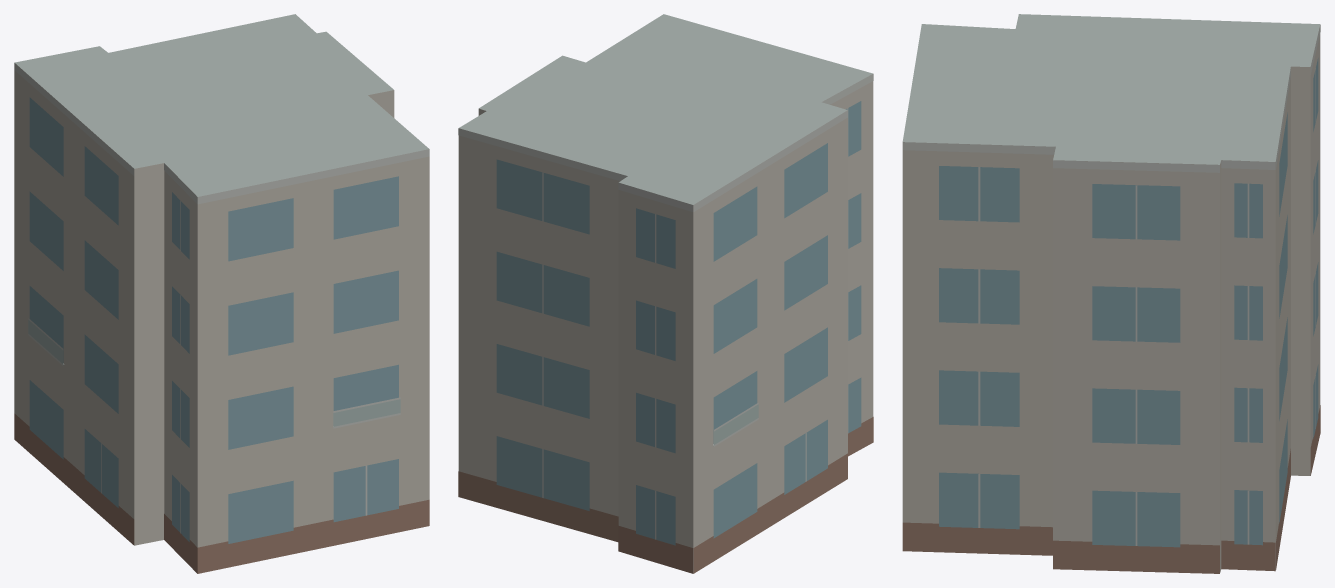
The model's file is survey-upis-32652696.glb.
3 views of the same model, side by side, from view 1: azimuth 30°, elevation 25°; view 2: azimuth 150°, elevation 25°; view 3: azimuth 270°, elevation 25° (orthographic). The views are drawn at different scales.
Visible parts, largest first — view 1: survey-upis-32652696.tmp; view 2: survey-upis-32652696.tmp; view 3: survey-upis-32652696.tmp.
Boxes of the visible parts, x1=… form: survey-upis-32652696.tmp: x1=14, y1=14, x2=429, y2=573; survey-upis-32652696.tmp: x1=458, y1=14, x2=873, y2=573; survey-upis-32652696.tmp: x1=902, y1=14, x2=1320, y2=573.
Bounding box in the file's own units: 9.82 × 12.4 × 11.49.
